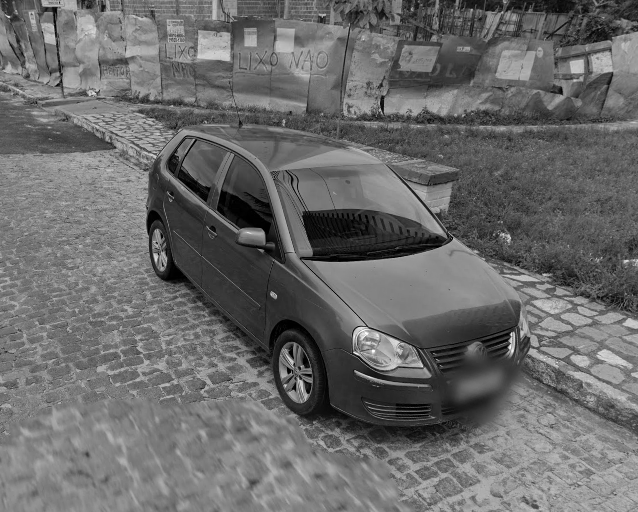car: (142, 80, 533, 429)
